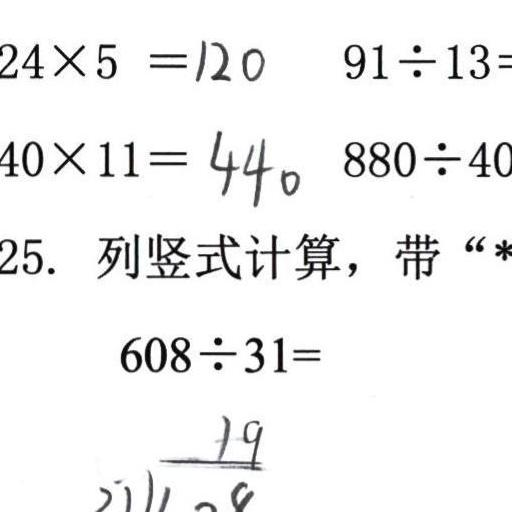ans: (205, 126, 302, 207), (190, 33, 264, 84)
